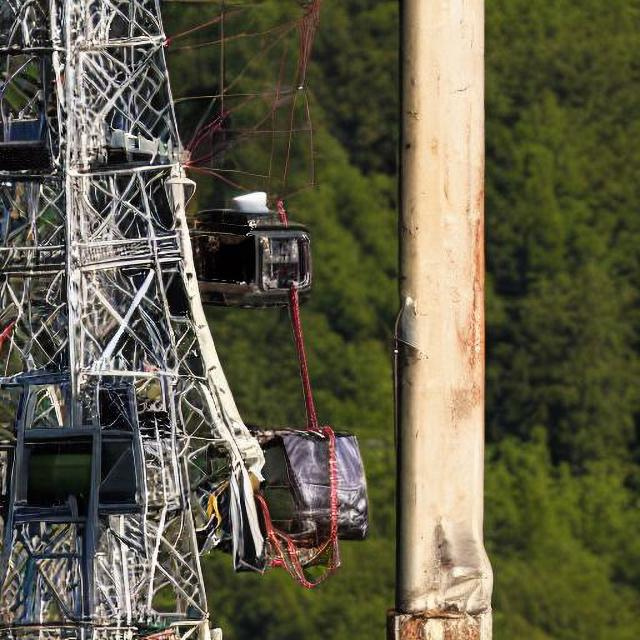floating object: (226, 421, 366, 551)
